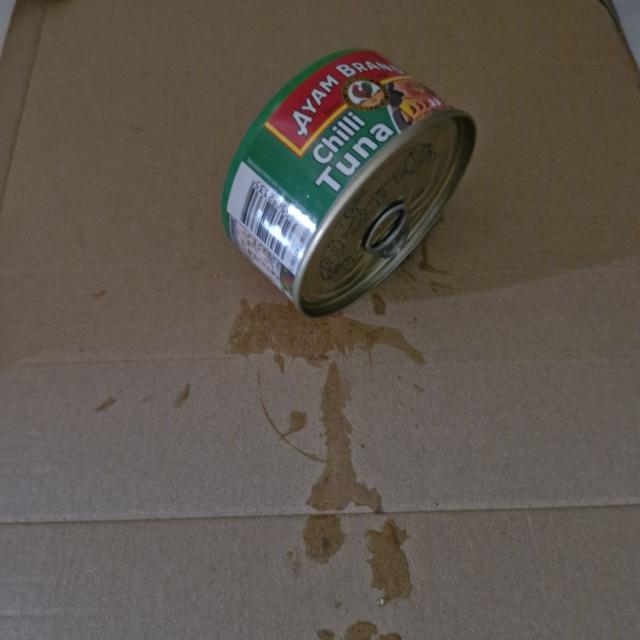metal: (215, 36, 485, 316)
